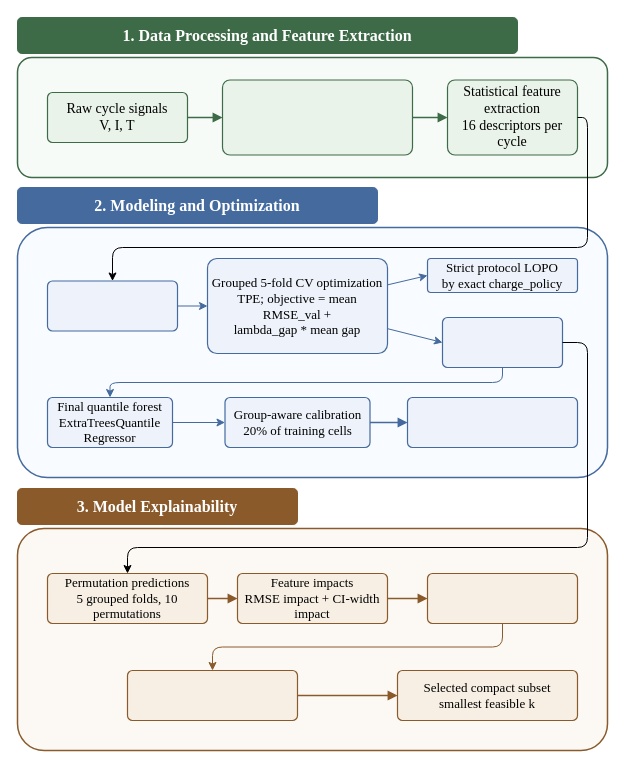
Image size: 626x769. Some labels were removed from this diagram. The centre of each missing label's shape, as x and y in pixels:
"Best hyperparameters" goes at pixel 502 342.
"Cell-wise split 80% development / 20% test" goes at pixel 112 305.
"Composite ranking 0.7 RMSE + 0.3 CI width" goes at pixel 502 598.
"Cycle validation gap correction, invalid-cycle filtering, optional interpolation" goes at pixel 317 117.
"Quantile-conformal prediction MAPIE CQR; point + interval" goes at pixel 492 422.
"Top-k compactness sweep k in {2,4,6,8,10,12,14,16}" goes at pixel 212 695.
